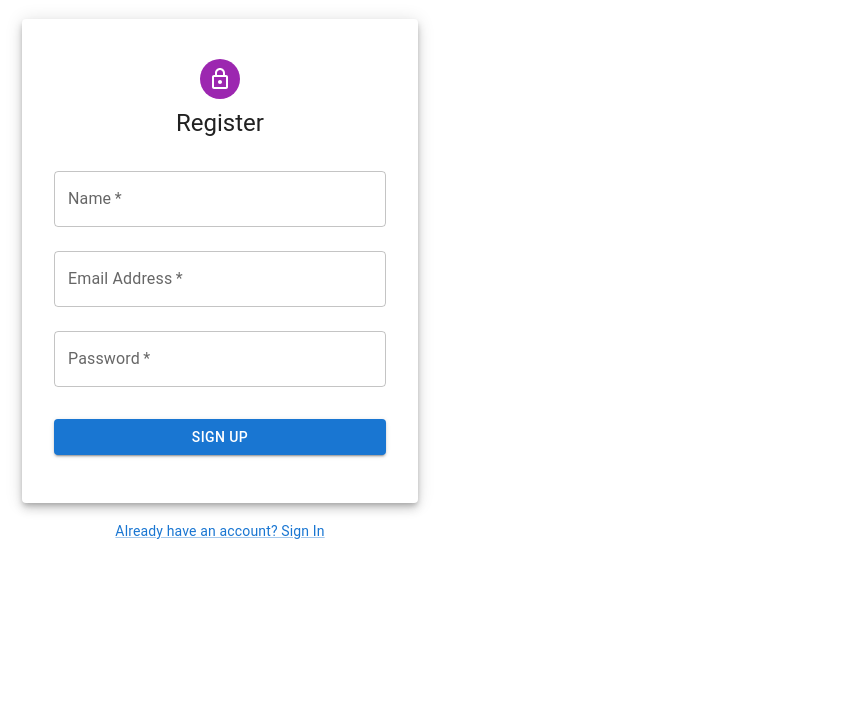
Test: Register Page › can close snackbar by clicking close button
Click the button "Sign Up". click: click(220, 437)
box: x1=54 y1=419 x2=386 y2=455
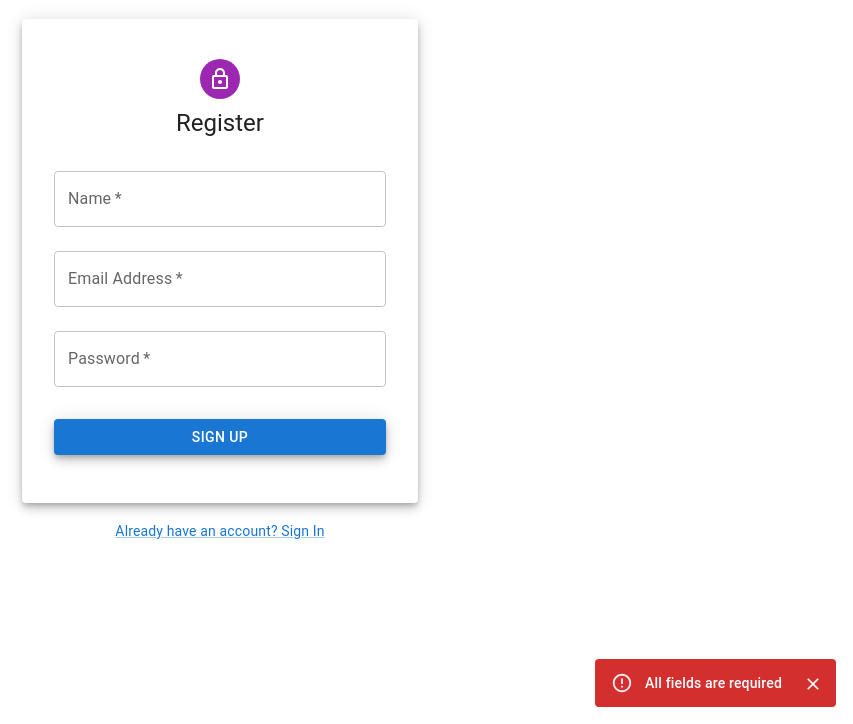
Expected: the text "All fields are required" is shown, x1=645 y1=675 x2=782 y2=691
Note: Find and click the close button
Click the button named "close". click: click(813, 684)
box: x1=798 y1=669 x2=828 y2=699
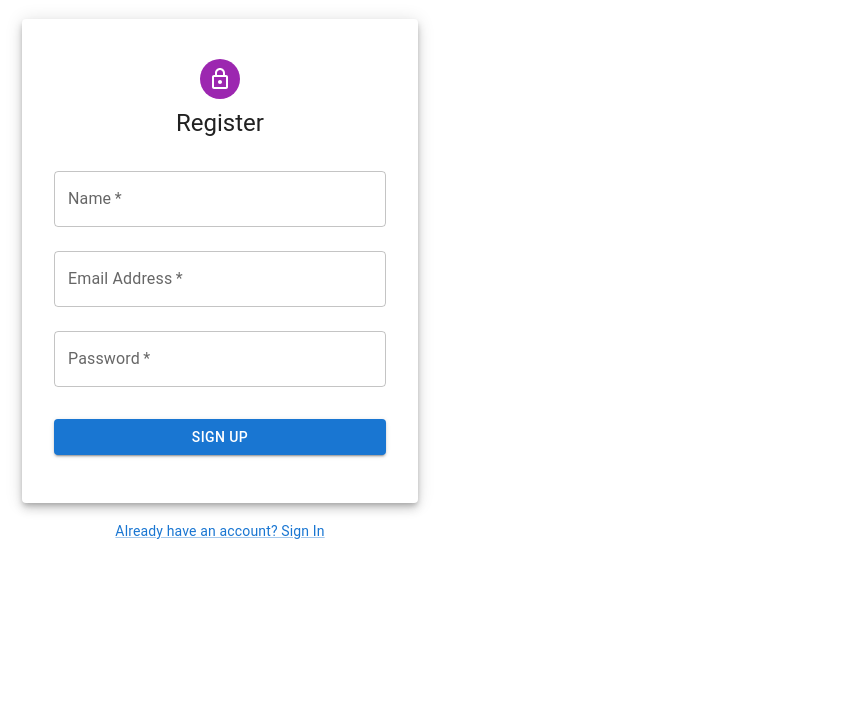
Expected: the text "All fields are required" is gone
